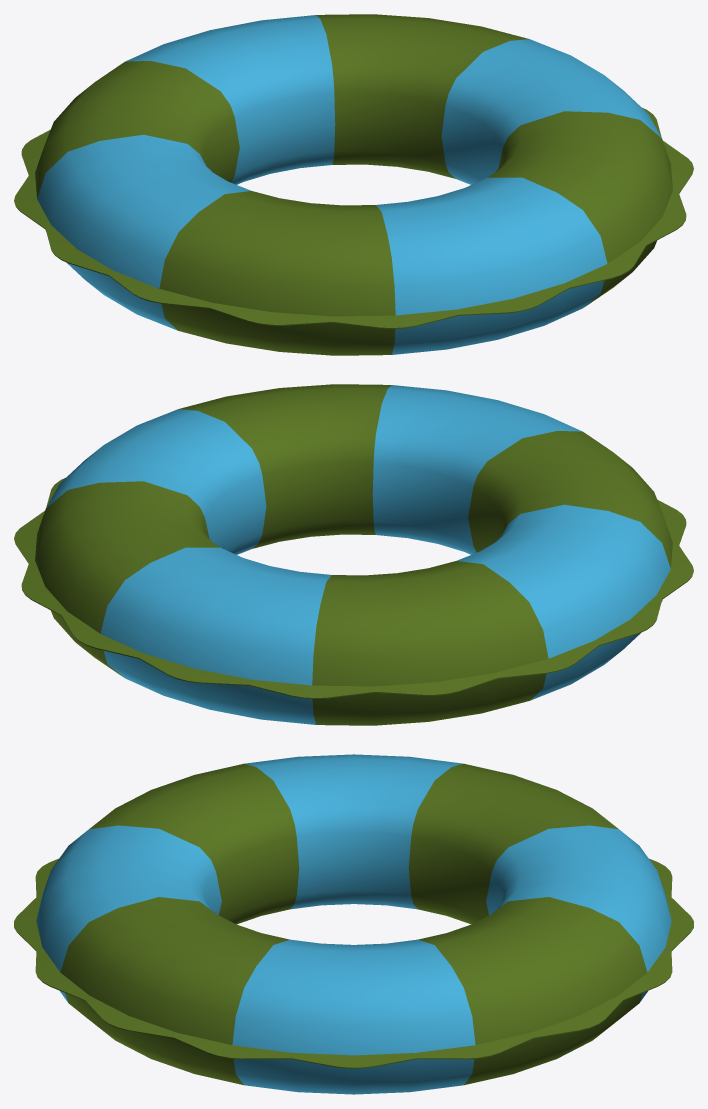
File: SwimmingRing03.fbx
3 renders of one model, top to bottom at view 1: azimuth 30°, elevation 25°; view 2: azimuth 150°, elevation 25°; view 3: azimuth 270°, elevation 25°, orthographic.
Parts seen in each view (by area): view 1: SwimmingRing03; view 2: SwimmingRing03; view 3: SwimmingRing03.
Part boxes in pixels (box(x1,y1,x2,y2)): SwimmingRing03: box(14, 14, 693, 355); SwimmingRing03: box(14, 384, 693, 725); SwimmingRing03: box(14, 754, 693, 1094).
Bounding box in the file's own units: 60 × 12 × 60.
